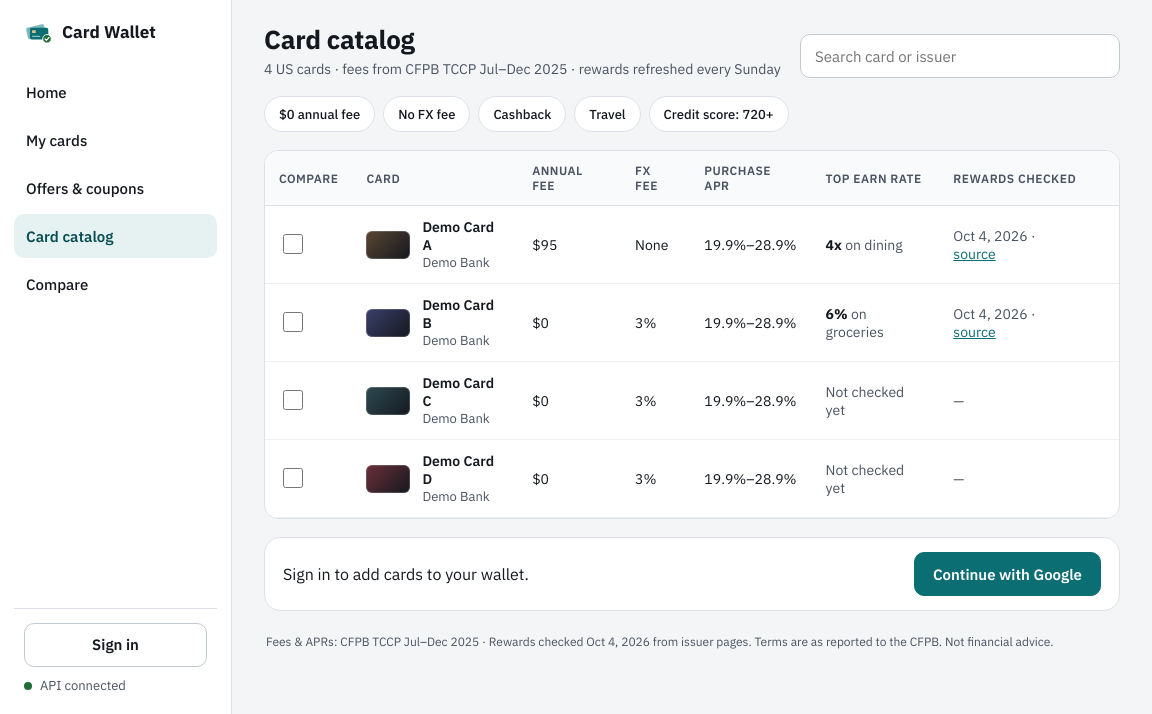
it: compare › picks up to three cards in the catalog tray and compares them
Click the checkbox named "Compare Demo Card A" at (293, 244), box x1=283 y1=234 x2=303 y2=254
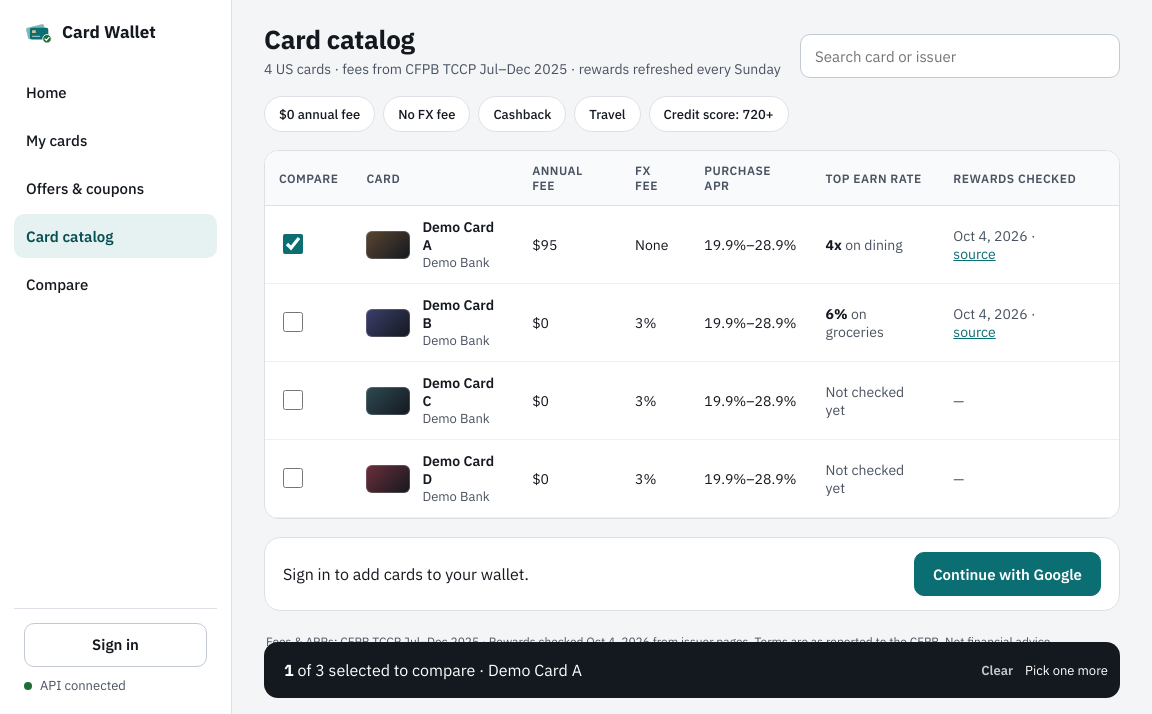
Now the text "Pick one more" is shown, box x1=1025 y1=662 x2=1108 y2=678
Click the checkbox named "Compare Demo Card B" at (293, 322), box x1=283 y1=312 x2=303 y2=332
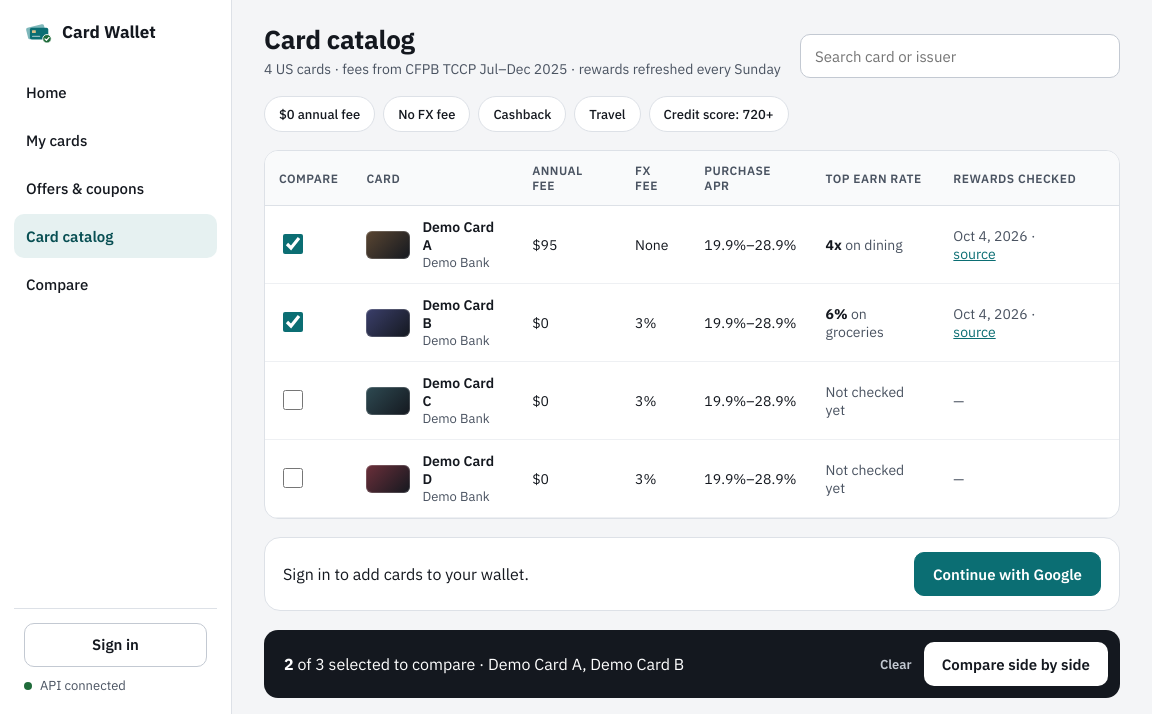
Click the checkbox named "Compare Demo Card C" at (293, 400), box x1=283 y1=390 x2=303 y2=410
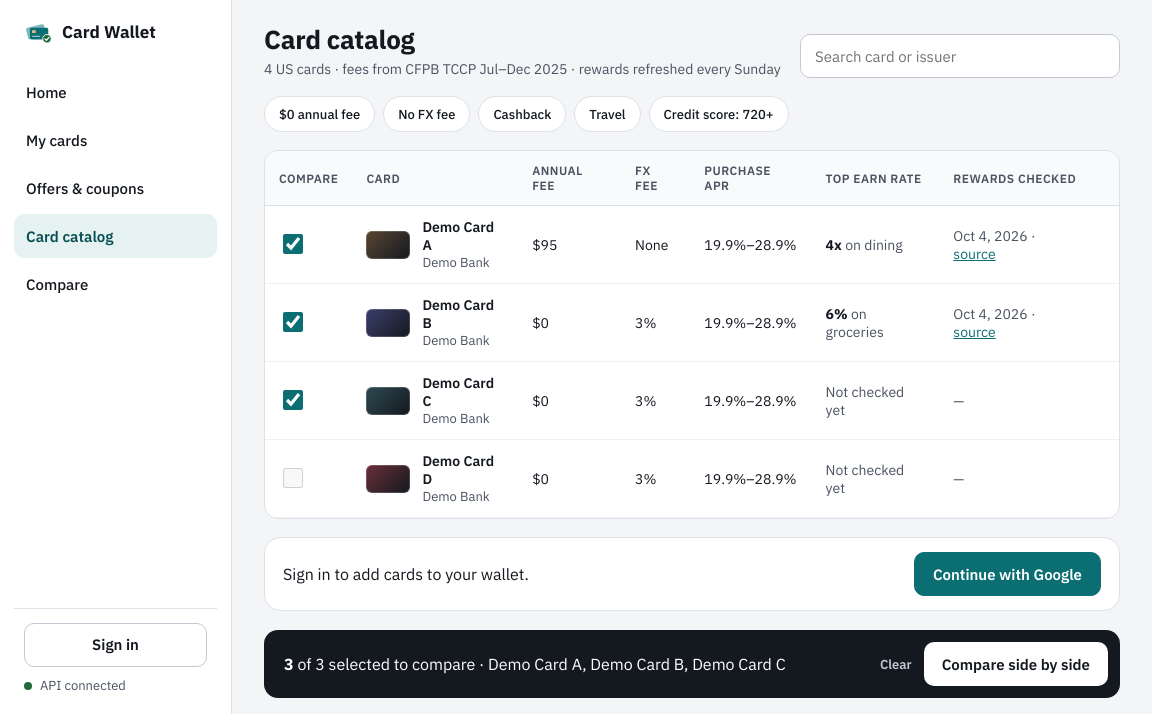
Now the checkbox named "Compare Demo Card D" is disabled, box x1=283 y1=468 x2=303 y2=488
Click the checkbox named "Compare Demo Card C" at (293, 400), box x1=283 y1=390 x2=303 y2=410
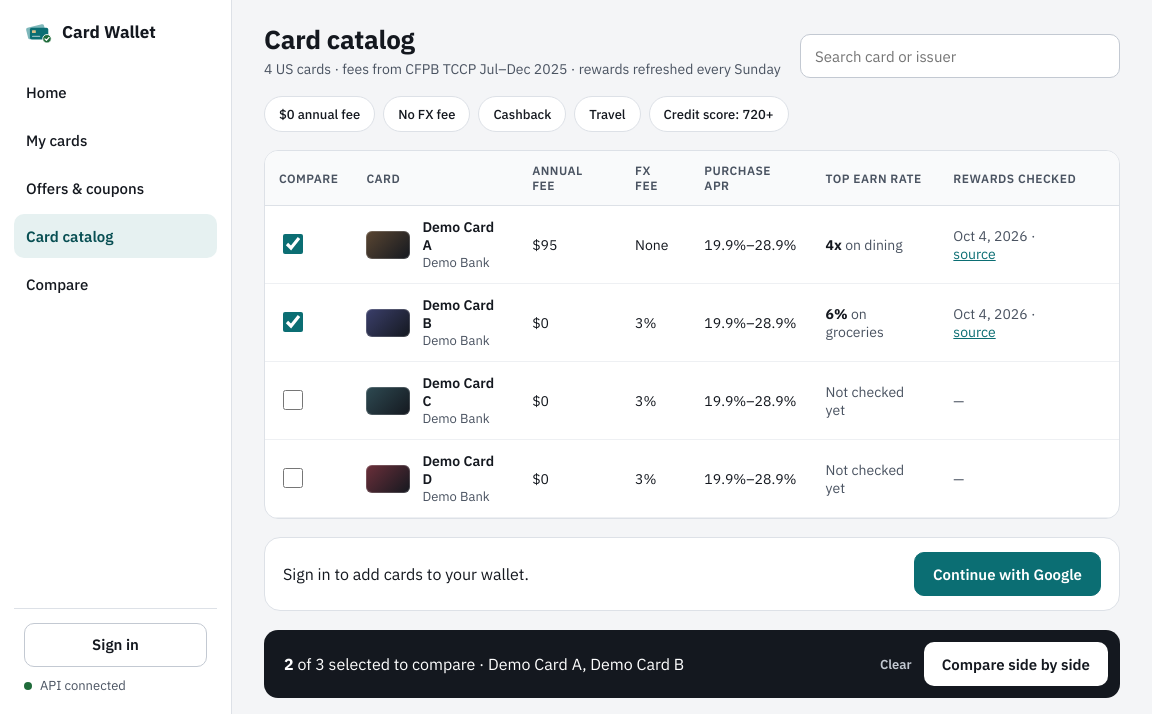
Click the link "Compare side by side" at (1016, 664), box x1=924 y1=642 x2=1108 y2=686
(page scrolled)
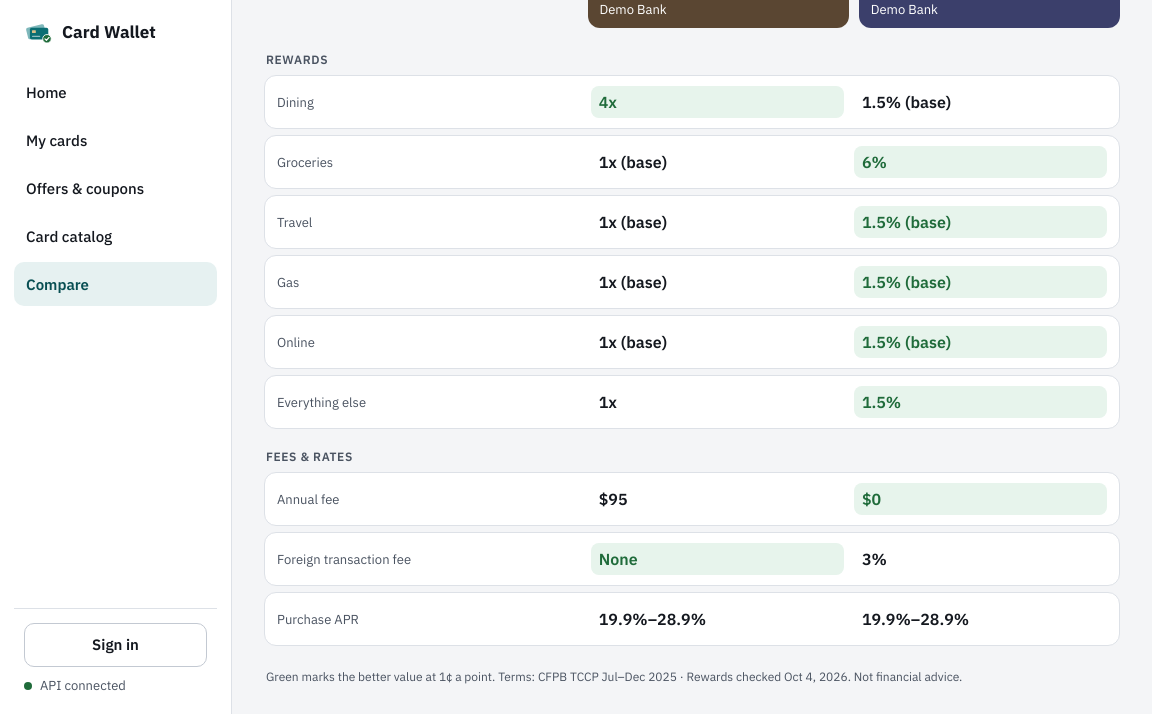
Expected: the text "Not financial advice" is shown, x1=854 y1=669 x2=962 y2=684
Now the cells read "4x (better value)", "1.5% (base)", in this order, box x1=591 y1=86 x2=844 y2=118; x1=862 y1=92 x2=951 y2=112
